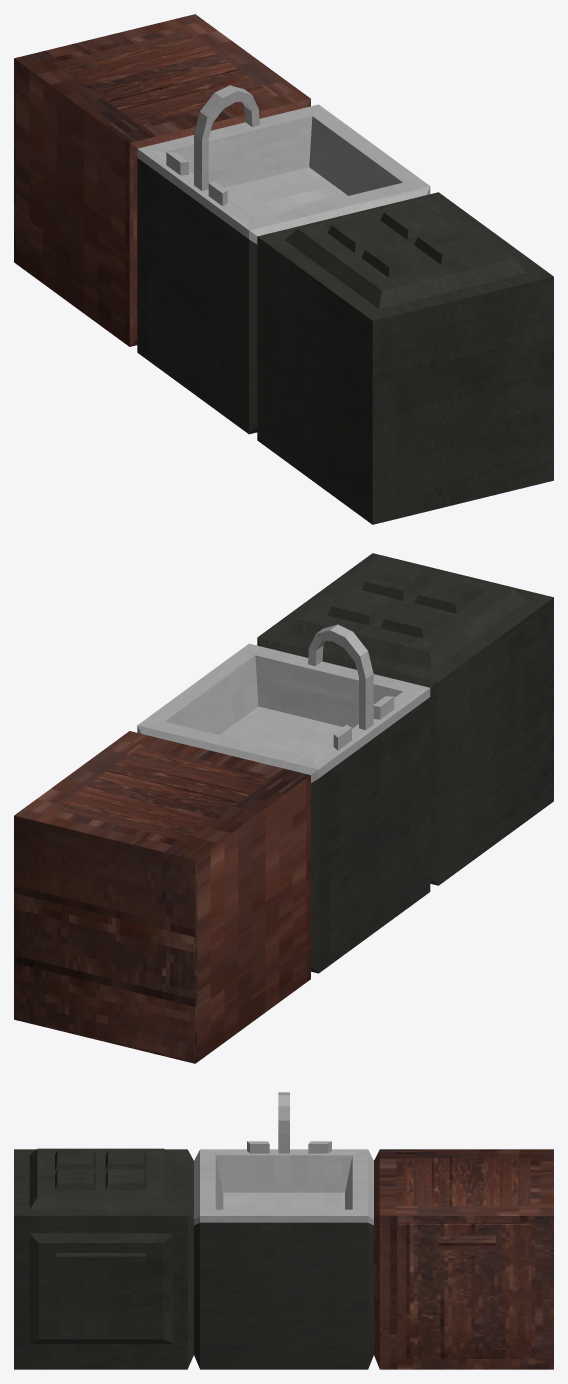
File: Cocina.fbx
The picture shows the model from 3 angles, top to bottom: view 1: azimuth 30°, elevation 25°; view 2: azimuth 150°, elevation 25°; view 3: azimuth 270°, elevation 25°; orthographic projection. The views are drawn at different scales.
Visible parts, largest first — view 1: Cocina; view 2: Cocina; view 3: Cocina.
Part boxes in pixels (bbox=[...]): Cocina: bbox=[14, 14, 553, 524]; Cocina: bbox=[14, 553, 553, 1063]; Cocina: bbox=[14, 1092, 553, 1369].
Size of the model in its own units: 70 by 100 by 220.
Materials: 4 (4 with a texture image).
